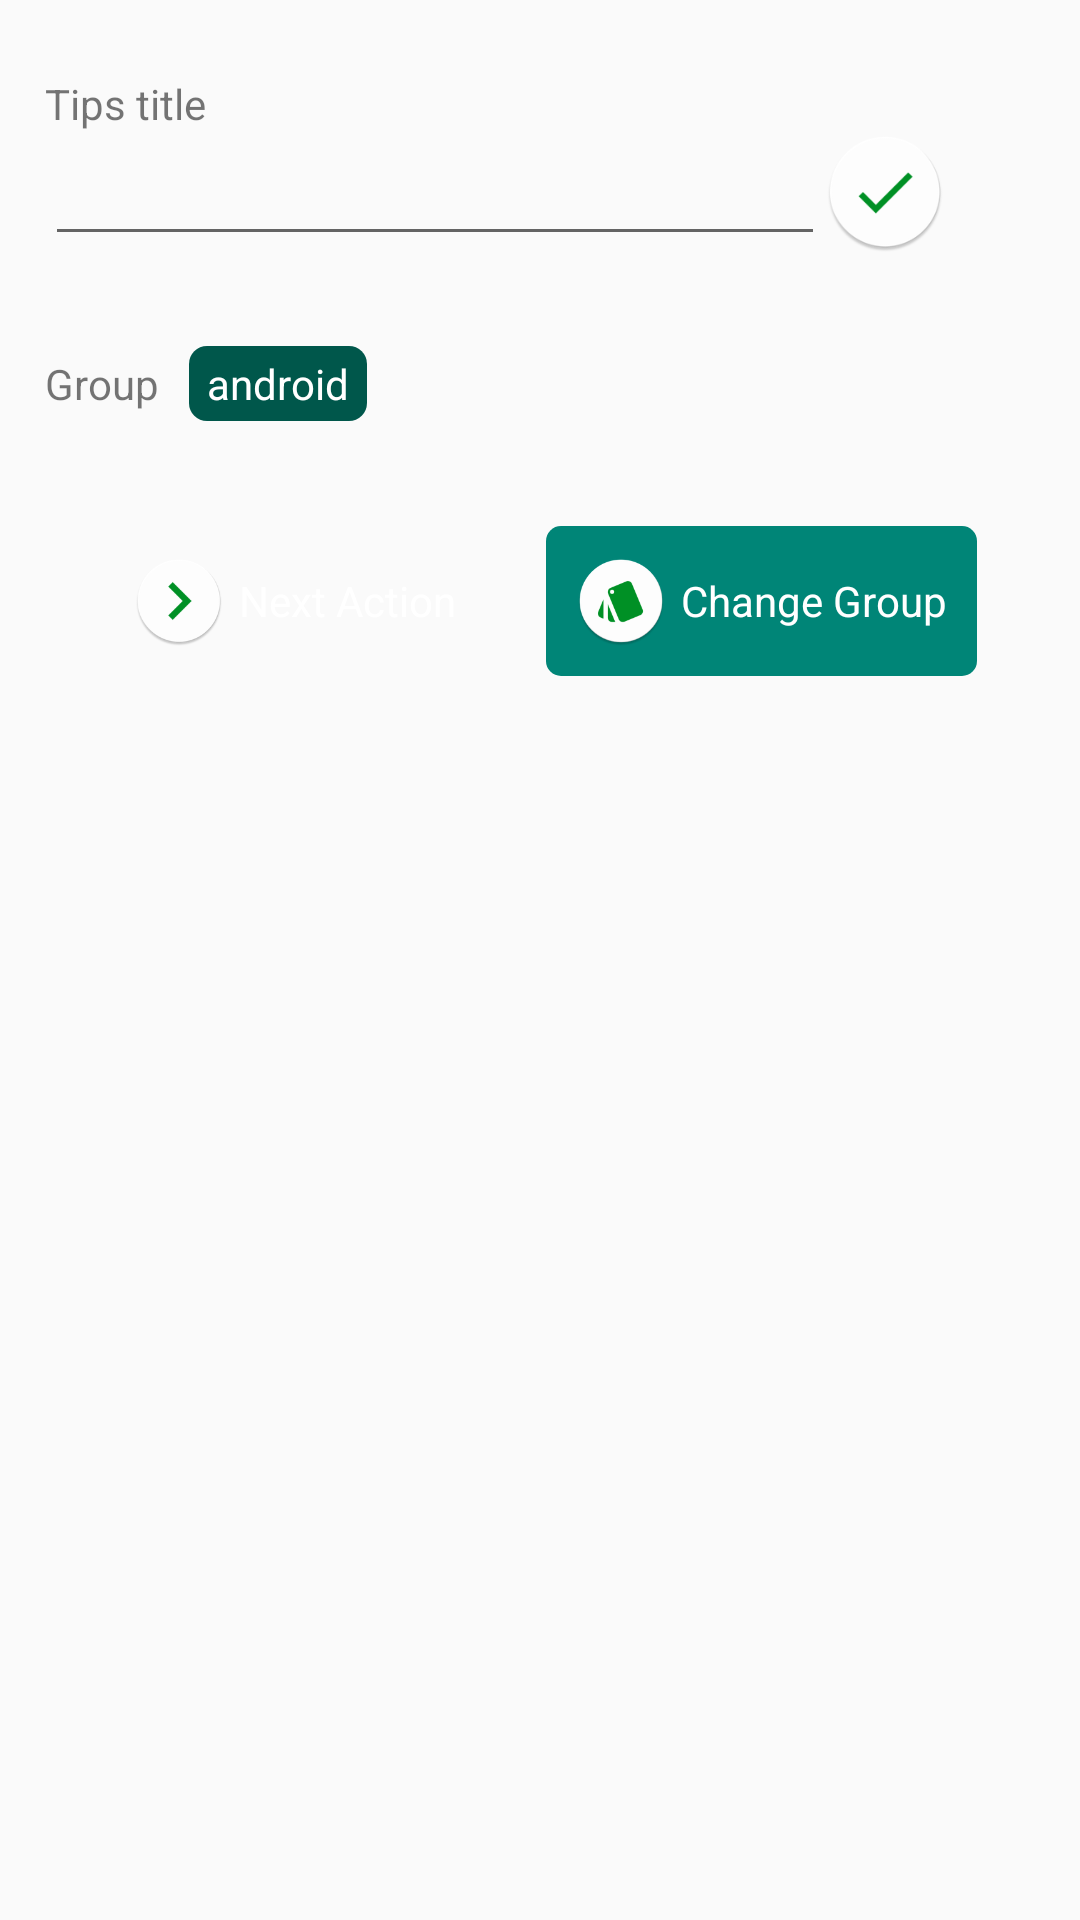

Icon click points for this 1080×1920 phone screenshot, format (x=x, y=y):
update: (x=886, y=211)
